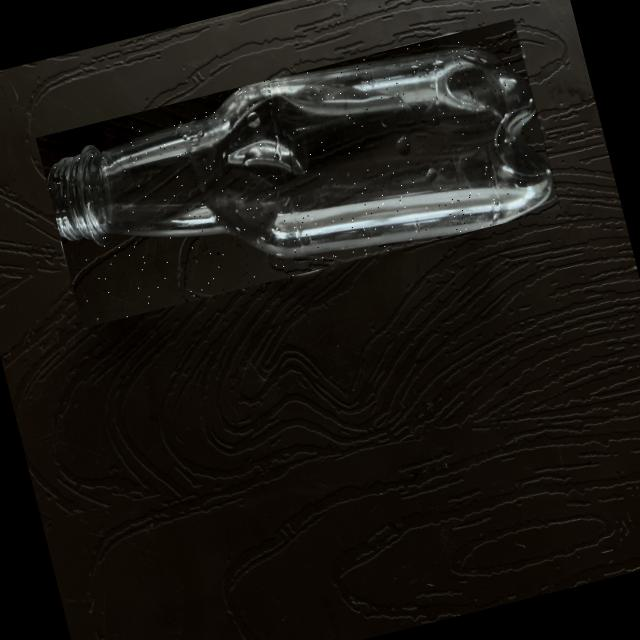PET_With_Liquid: (49, 48, 551, 256)
